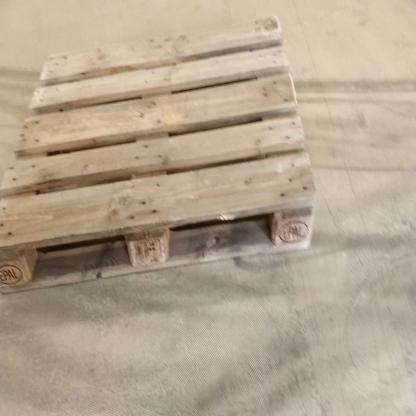BoxFace: (0, 9, 320, 301)
